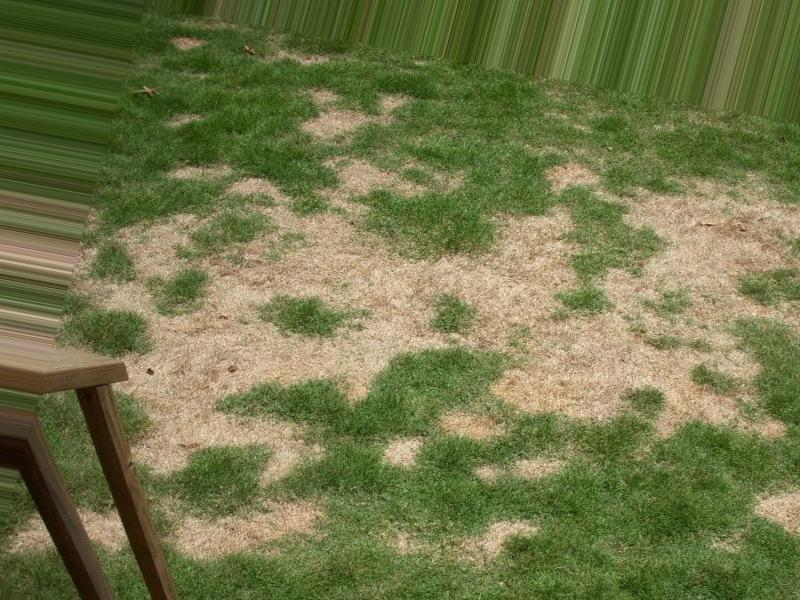patch: (151, 293, 308, 397), (244, 220, 404, 291), (517, 339, 659, 414), (435, 256, 550, 336), (324, 96, 396, 203), (657, 210, 734, 300), (177, 496, 287, 547), (165, 414, 282, 456), (567, 273, 647, 330), (324, 337, 390, 393)
